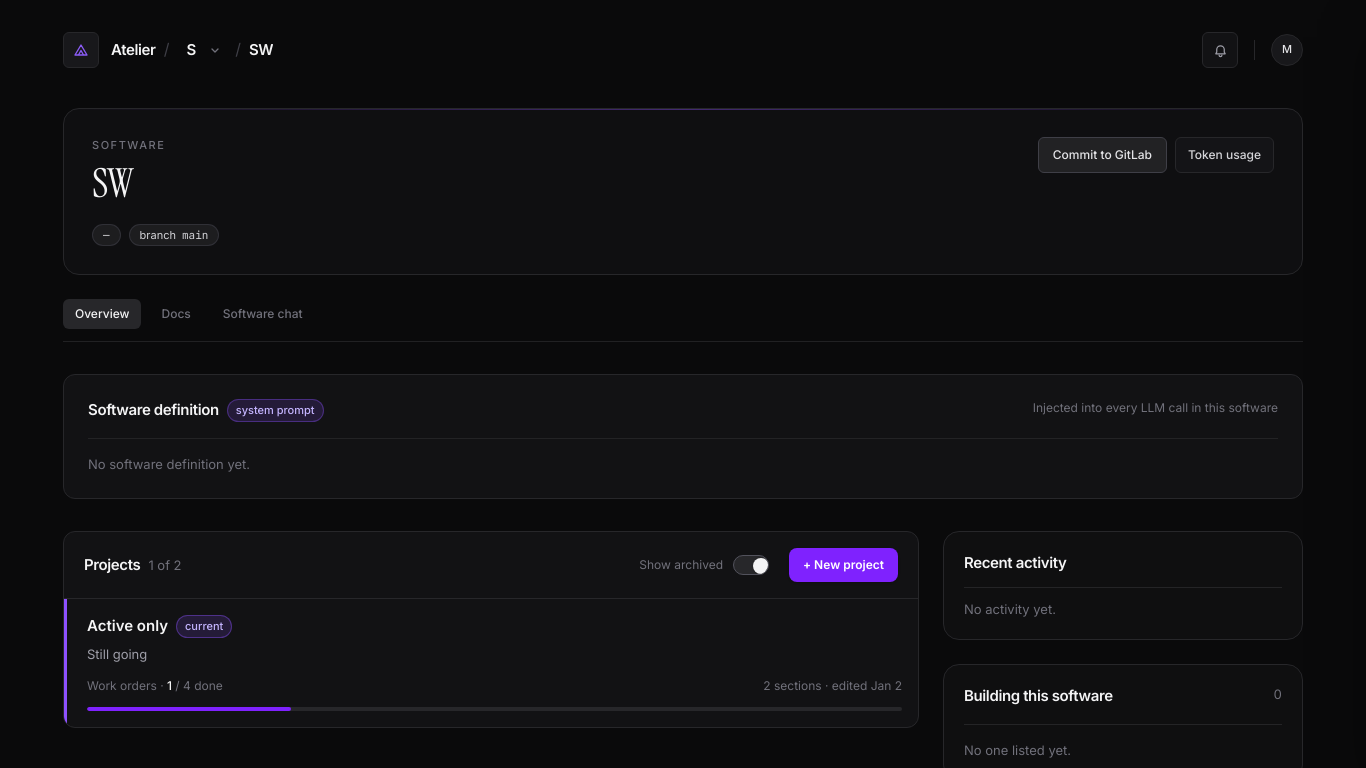
Scenario: SoftwarePage › lists archived projects when Show archived is toggled on
Check: the heading "SW" is shown, box x1=92 y1=156 x2=132 y2=208
Check: the text "1 of 2" is shown, box x1=148 y1=556 x2=182 y2=575
Click the switch named "show archived" at (751, 565), box x1=733 y1=555 x2=769 y2=575
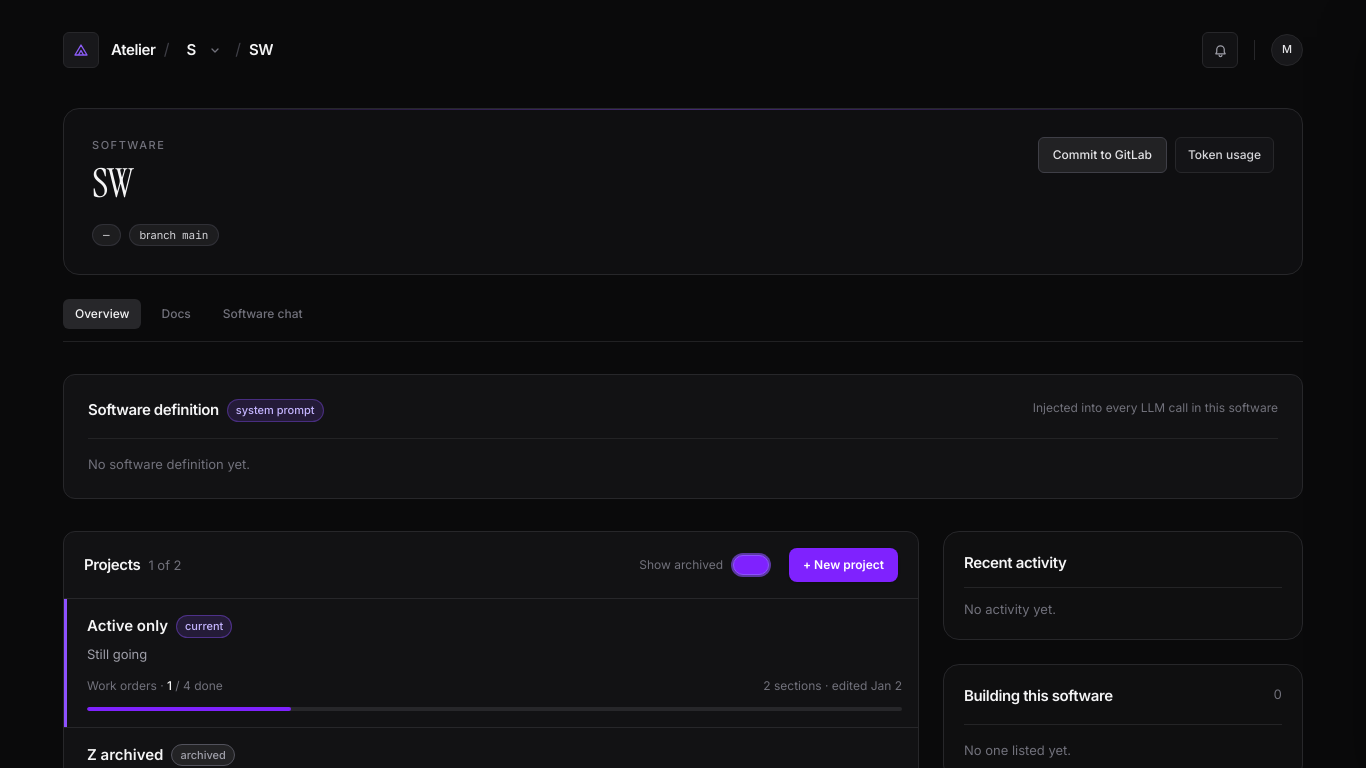
Check: the text "Z archived" is shown, box x1=87 y1=744 x2=163 y2=766
